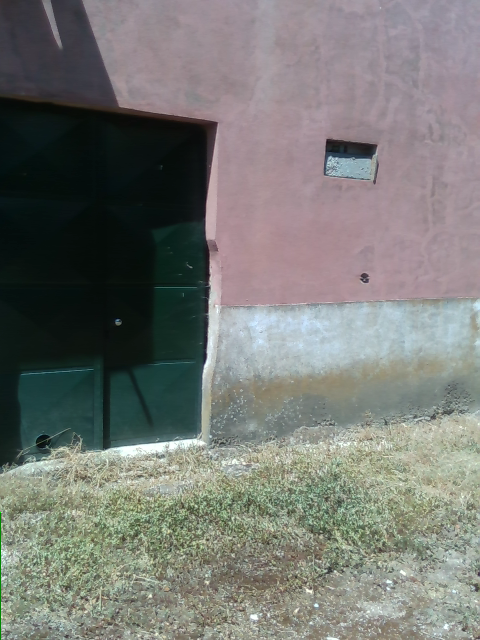closed: (2, 91, 221, 469)
